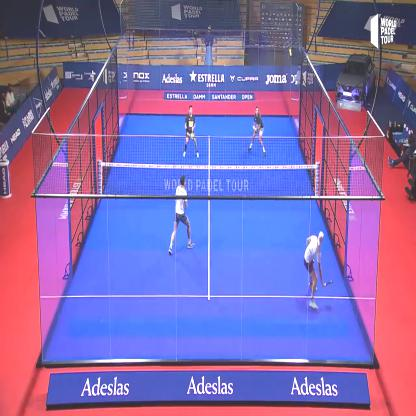ball: (288, 44, 294, 60)
